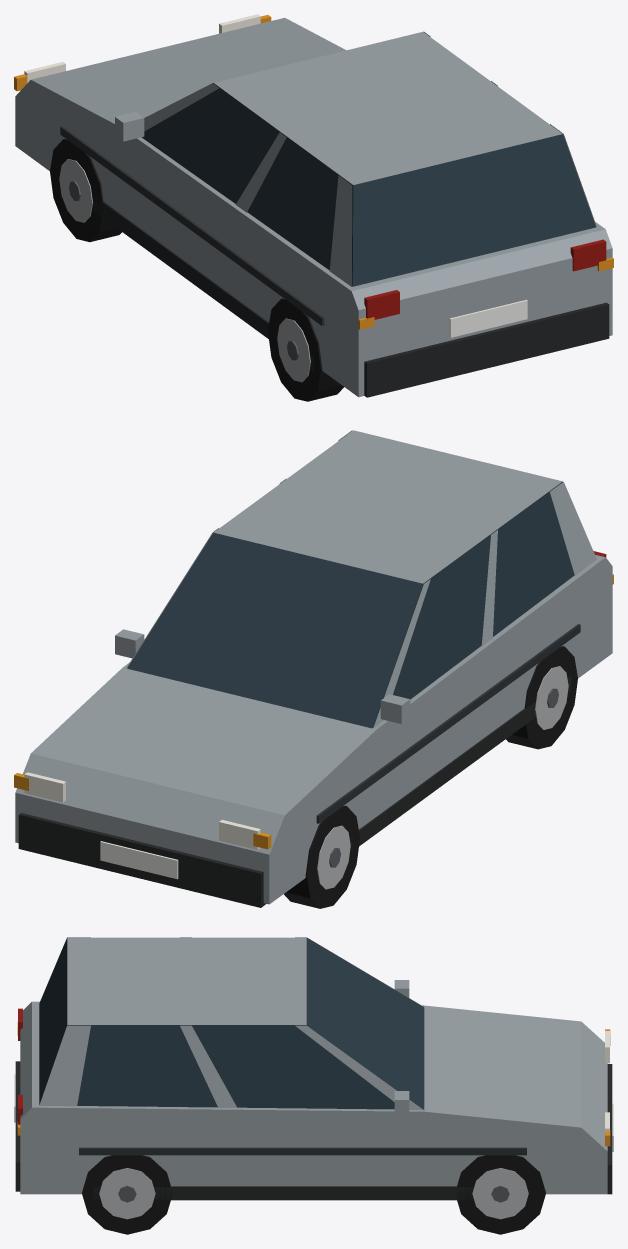
The model's file is hatch.glb.
The picture shows the model from 3 angles, top to bottom: view 1: azimuth 30°, elevation 25°; view 2: azimuth 150°, elevation 25°; view 3: azimuth 270°, elevation 25°; orthographic projection. The views are drawn at different scales.
Visible parts, largest first — view 1: Hatch, TailR, TailL; view 2: Hatch, HeadR, HeadL; view 3: Hatch.
Boxes of the visible parts, box(x1,y1,x2,y2) form: Hatch: box(15, 17, 612, 401); TailR: box(570, 239, 606, 271); TailL: box(364, 290, 399, 319); Hatch: box(15, 430, 612, 908); HeadR: box(24, 772, 65, 802); HeadL: box(219, 820, 260, 849); Hatch: box(14, 937, 613, 1234).
Bounding box in the file's own units: 1.93 × 1.5 × 4.08.
